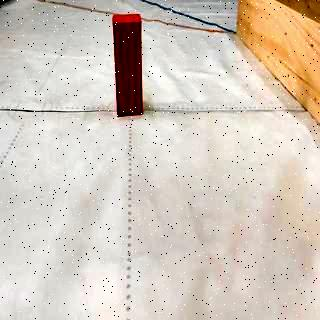redbox: (112, 13, 143, 118)
